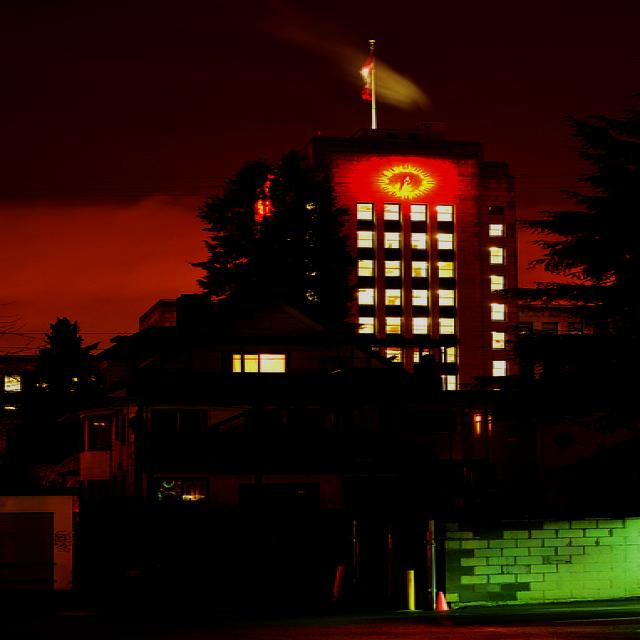Car: (75, 532, 182, 593)
